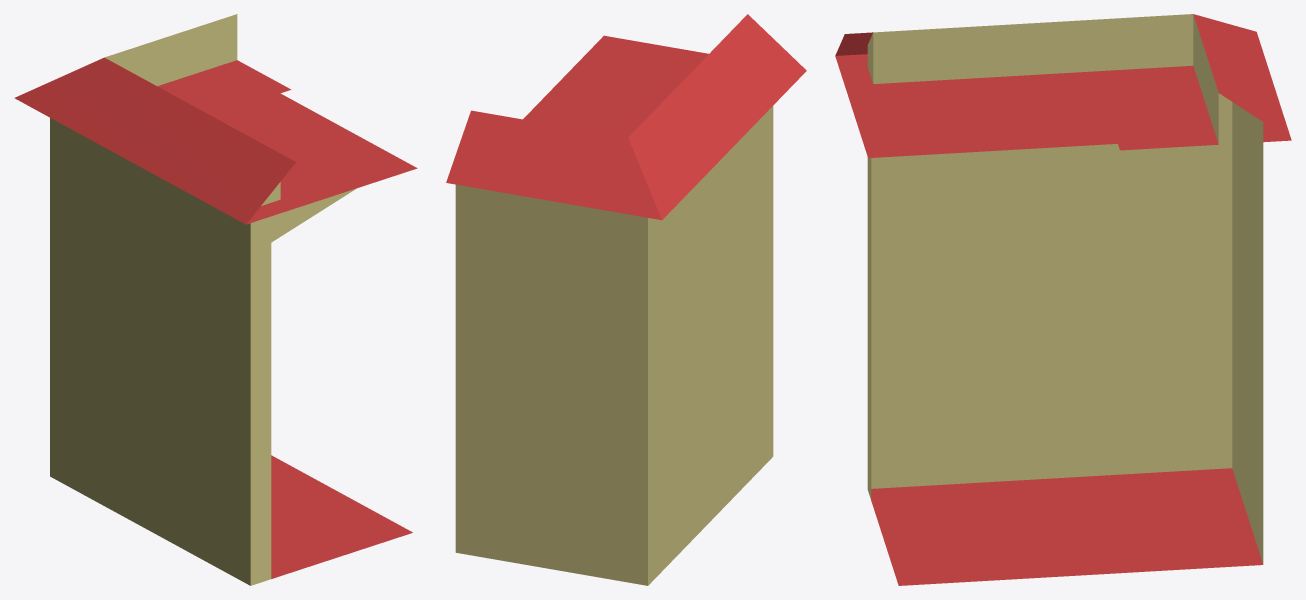
3 views of the same model, side by side, from view 1: azimuth 30°, elevation 25°; view 2: azimuth 150°, elevation 25°; view 3: azimuth 270°, elevation 25° (orthographic). The views are drawn at different scales.
Bounding box in the file's own units: 5.42 × 7.96 × 9.12.
